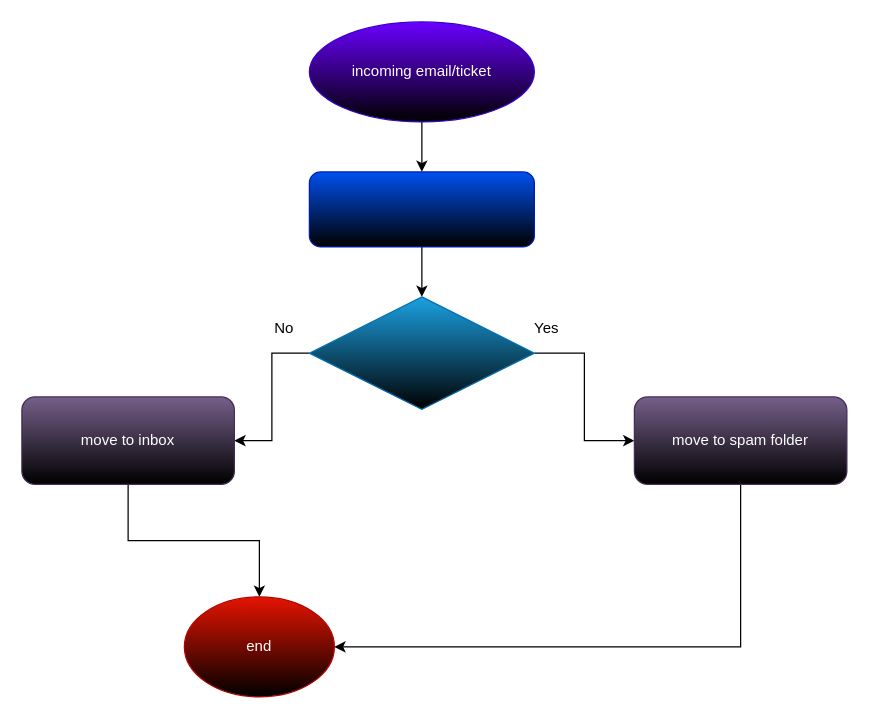
Image size: 869x719. Some labels were removed from this diagram. The shapes that lost their labels are listed below. From the top down, each one's centre as x and y in pixels, then its label:
At point (421, 209): "AI analyzes and categorizes".
At point (421, 352): "Is it spam/promotional?".
